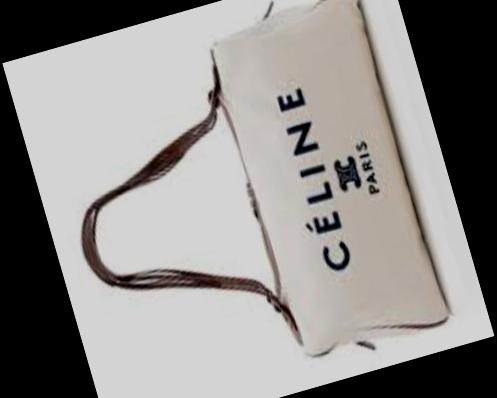CELINE: (267, 87, 352, 276)
